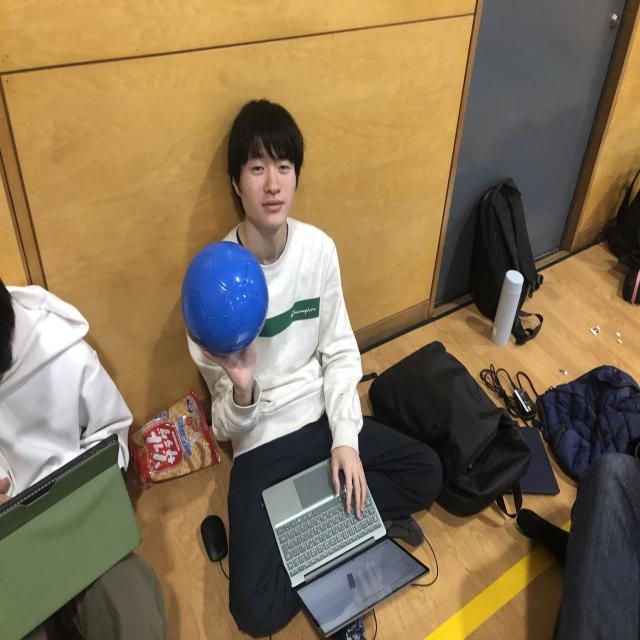blue_ball: (183, 240, 271, 361)
